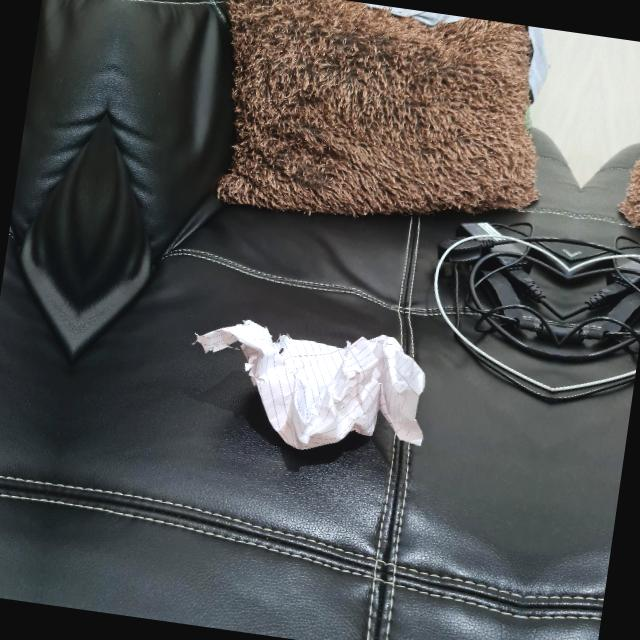paper: (191, 309, 434, 466)
